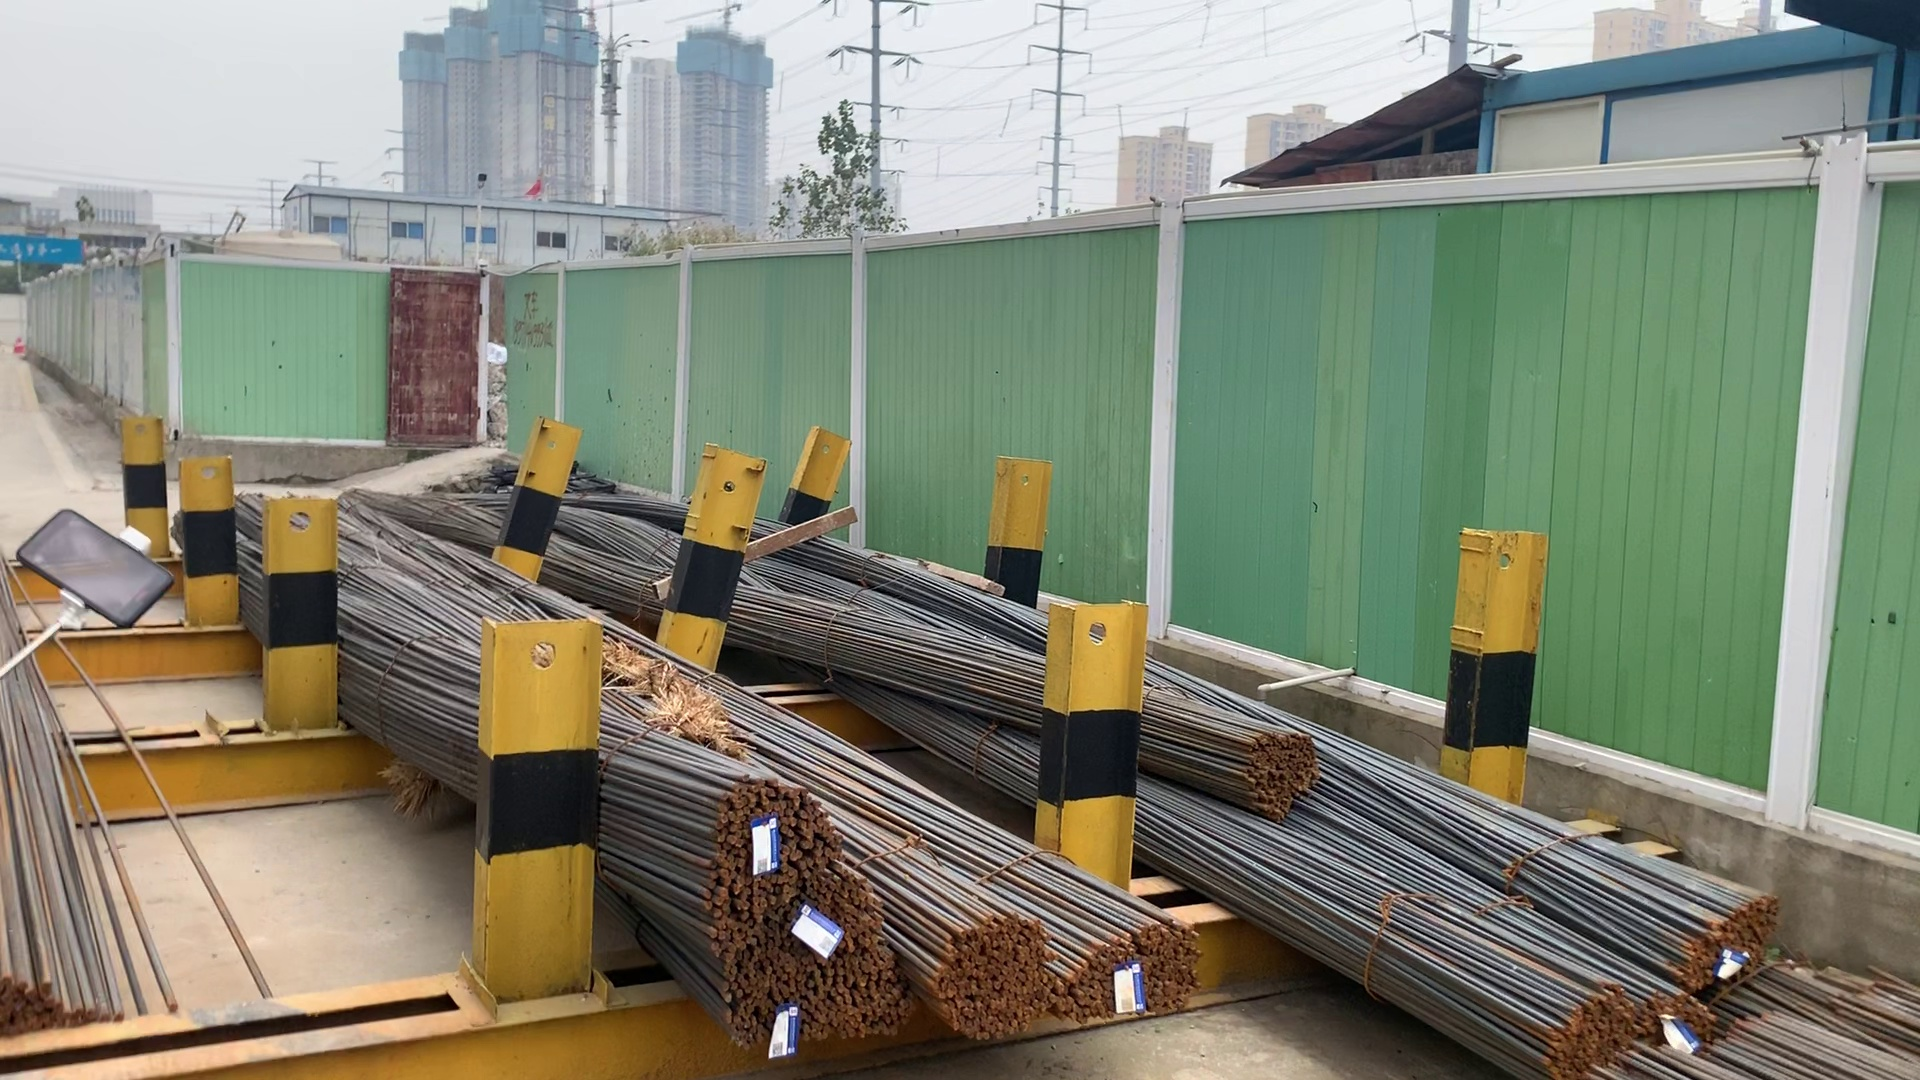rebar: (731, 906, 895, 1043), (700, 775, 824, 927), (930, 902, 1048, 1033), (1068, 918, 1197, 1018), (1538, 965, 1643, 1069), (1677, 898, 1783, 977), (1245, 720, 1317, 827)
